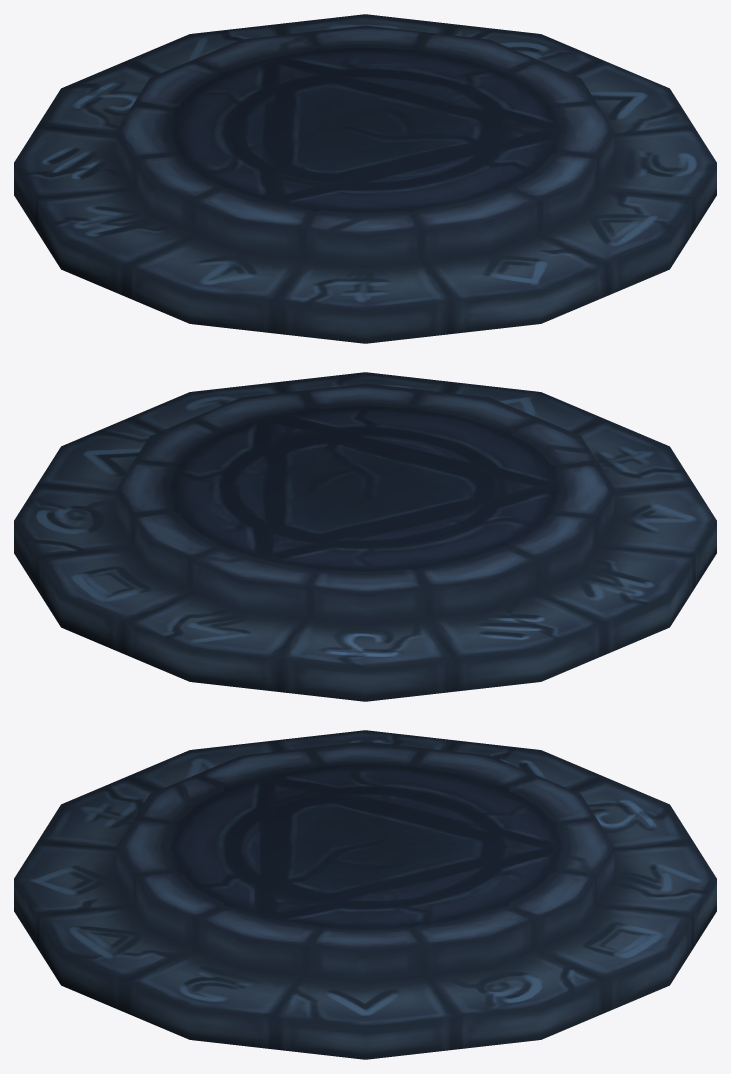
File: Portal-base.fbx
3 views of the same model, one above another, from view 1: azimuth 30°, elevation 25°; view 2: azimuth 150°, elevation 25°; view 3: azimuth 270°, elevation 25° (orthographic).
Parts seen in each view (by area): view 1: pCylinder1; view 2: pCylinder1; view 3: pCylinder1.
Boxes of the visible parts, x1=… form: pCylinder1: x1=14, y1=14, x2=716, y2=343; pCylinder1: x1=14, y1=372, x2=716, y2=701; pCylinder1: x1=14, y1=730, x2=716, y2=1059.
Bounding box in the file's own units: 19.66 × 1.99 × 19.66.
1 material, 1 textured.
